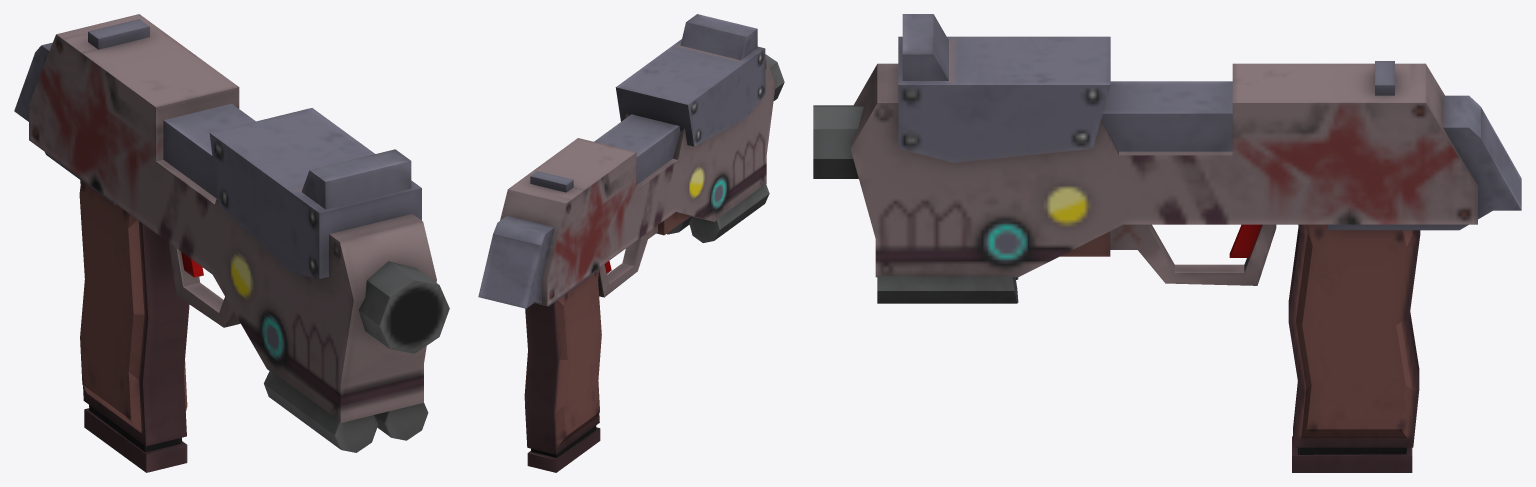
Rendered from desert_eagle.fbx.
The picture shows the model from 3 angles, left to right: view 1: azimuth 30°, elevation 25°; view 2: azimuth 150°, elevation 25°; view 3: azimuth 270°, elevation 25°; orthographic projection. The views are drawn at different scales.
Visible parts, largest first — view 1: desert_eagle; view 2: desert_eagle; view 3: desert_eagle.
Boxes of the visible parts, x1=… form: desert_eagle: x1=14, y1=14, x2=449, y2=472; desert_eagle: x1=478, y1=14, x2=784, y2=472; desert_eagle: x1=813, y1=14, x2=1521, y2=472.
Size of the model in its own units: 0.8823 by 3.65 by 5.46.
1 material, 1 textured.
